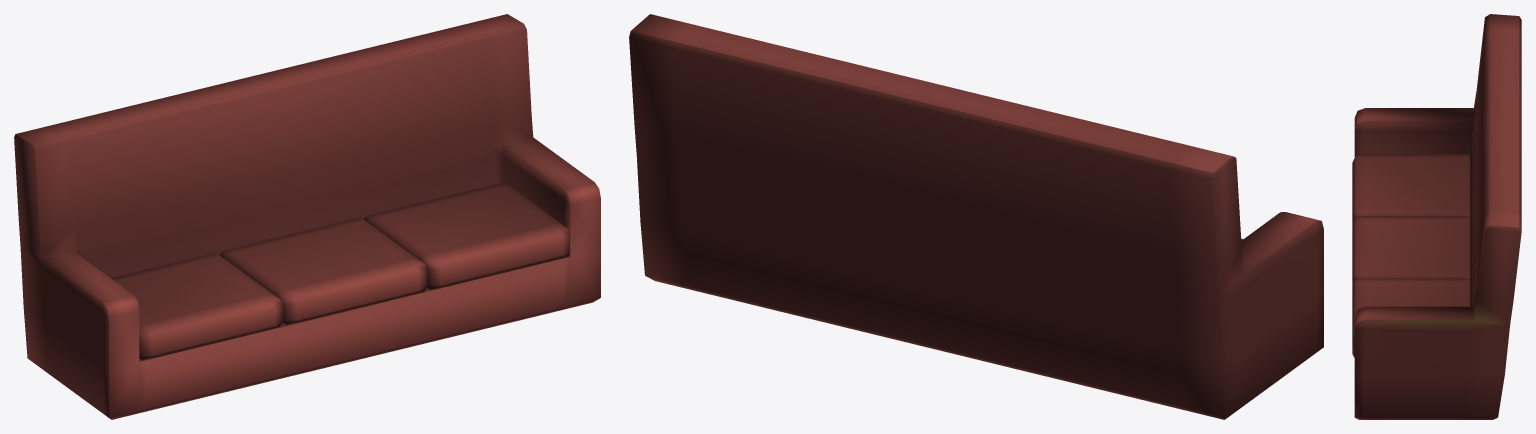
3 renders of one model, left to right at view 1: azimuth 30°, elevation 25°; view 2: azimuth 150°, elevation 25°; view 3: azimuth 270°, elevation 25°, orthographic. The views are drawn at different scales.
Parts seen in each view (by area): view 1: alt1.001; view 2: alt1.001; view 3: alt1.001.
Part boxes in pixels (<box>): alt1.001: <box>14,14,600,419</box>; alt1.001: <box>629,14,1323,419</box>; alt1.001: <box>1352,14,1521,419</box>.
Bounding box in the file's own units: 0.5 × 0.2167 × 0.1692.
